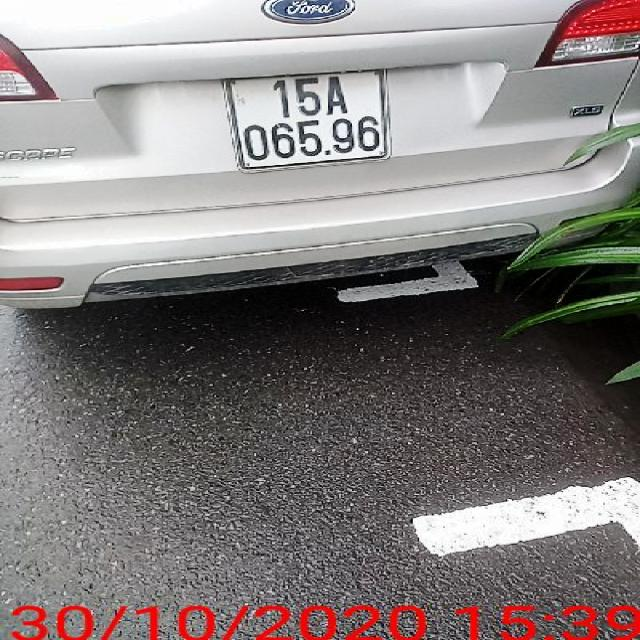license_plate: (228, 67, 392, 170)
